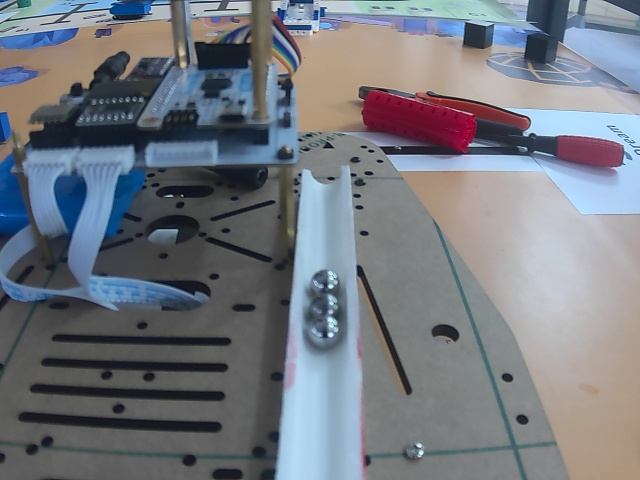steelball: (309, 316, 339, 348), (311, 269, 339, 294), (310, 295, 340, 316)
